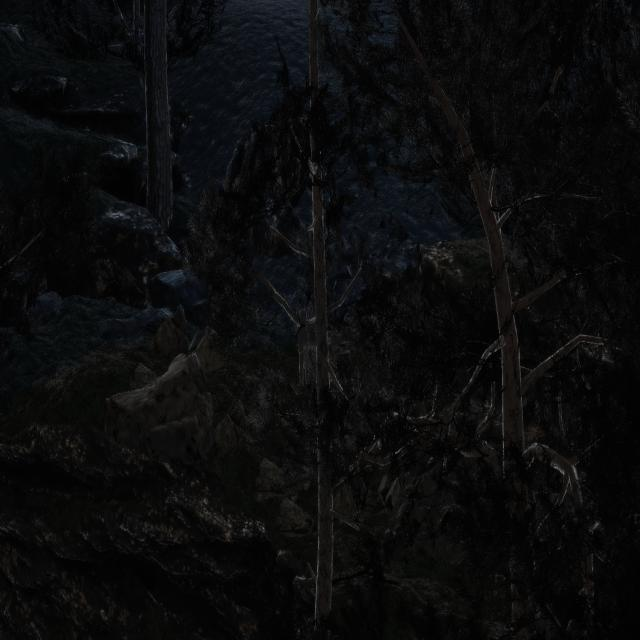Human: (288, 281, 316, 407)
